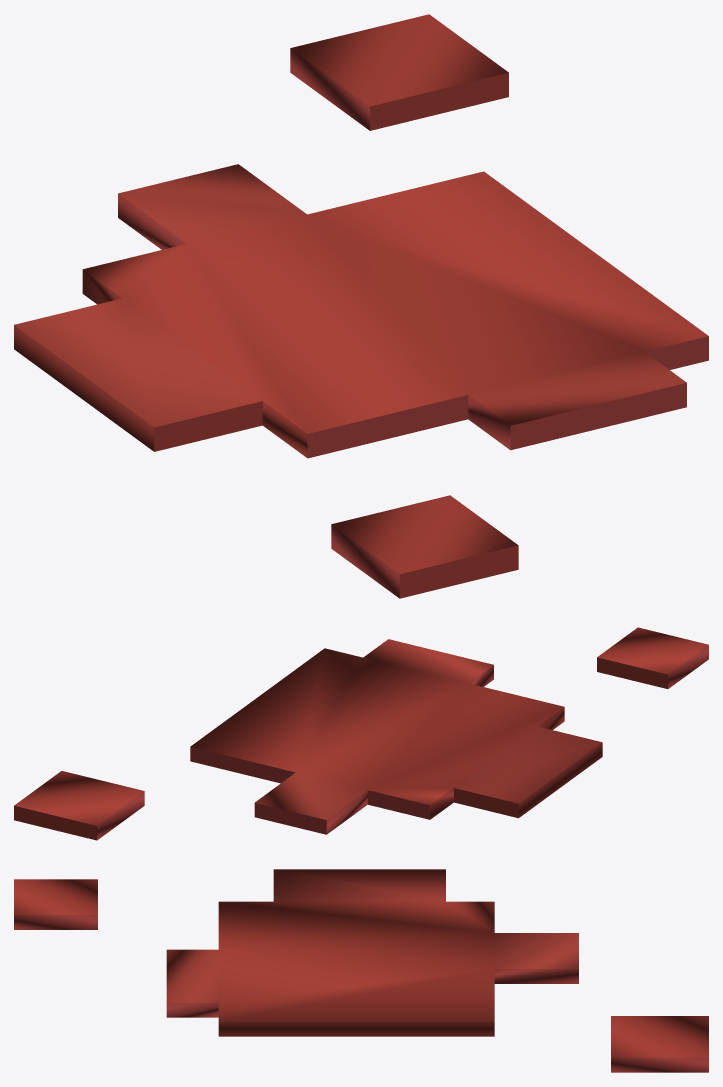
The model's file is apoc_prop_51.glb.
3 views of the same model, one above another, from view 1: azimuth 30°, elevation 25°; view 2: azimuth 150°, elevation 25°; view 3: azimuth 270°, elevation 25° (orthographic). The views are drawn at different scales.
Visible parts, largest first — view 1: prop_053; view 2: prop_053; view 3: prop_053.
Part boxes in pixels (bbox=[...]): prop_053: bbox=[14, 14, 708, 598]; prop_053: bbox=[14, 627, 708, 840]; prop_053: bbox=[14, 869, 708, 1072].
Size of the model in its own units: 0.0761 by 0.00282 by 0.1185.
Materials: 1 (1 with a texture image).
